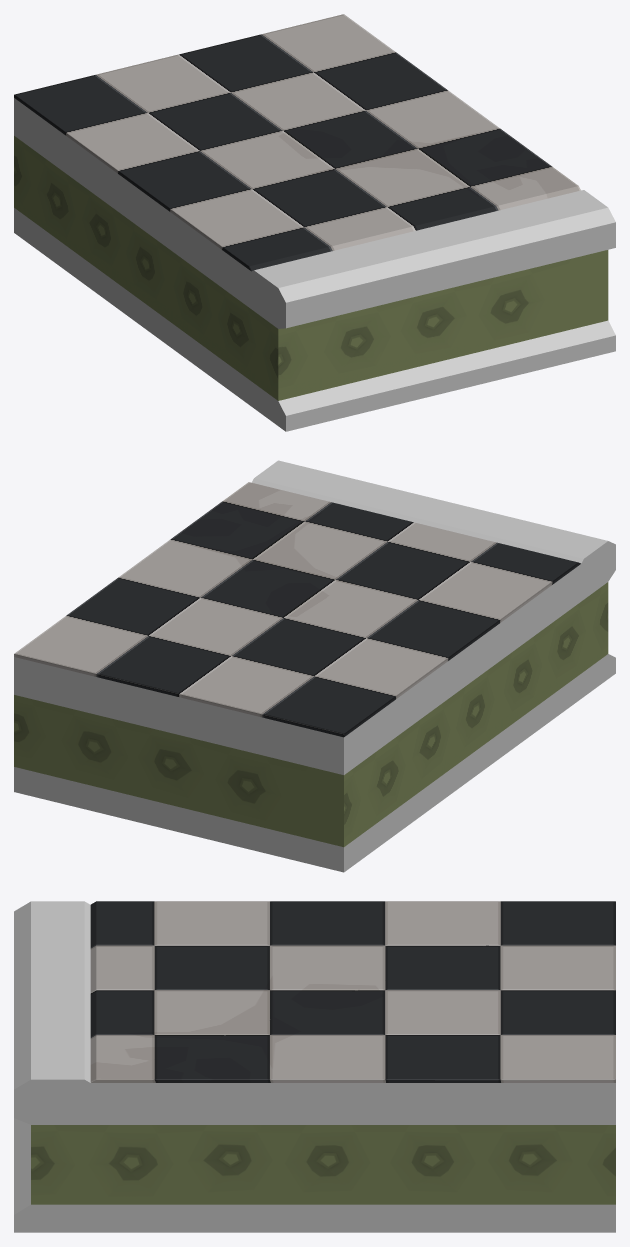
Rendered from SM_Prop_Platform_02_Half_01.fbx.
3 renders of one model, top to bottom at view 1: azimuth 30°, elevation 25°; view 2: azimuth 150°, elevation 25°; view 3: azimuth 270°, elevation 25°, orthographic. The views are drawn at different scales.
Parts seen in each view (by area): view 1: SM_Prop_Platform_02_Half_01; view 2: SM_Prop_Platform_02_Half_01; view 3: SM_Prop_Platform_02_Half_01.
Boxes of the visible parts, left/top/right/bottom form: SM_Prop_Platform_02_Half_01: left=14, top=14, right=615, bottom=431; SM_Prop_Platform_02_Half_01: left=14, top=460, right=615, bottom=872; SM_Prop_Platform_02_Half_01: left=14, top=901, right=615, bottom=1232.
Bounding box in the file's own units: 125 × 50 × 178.
